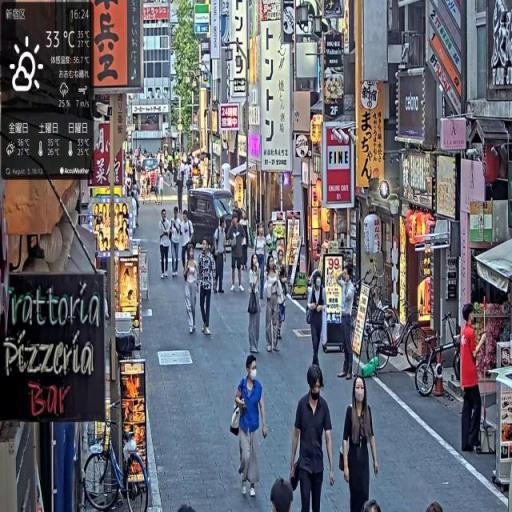person: (290, 361, 336, 512), (340, 374, 380, 512), (232, 354, 269, 503), (461, 303, 488, 457), (307, 263, 328, 372), (264, 255, 287, 354), (338, 265, 357, 383), (197, 239, 216, 338), (248, 255, 263, 361), (229, 212, 246, 294), (185, 247, 200, 337), (254, 222, 269, 301), (214, 217, 228, 294), (159, 208, 173, 280), (170, 206, 183, 279), (239, 210, 253, 277)
